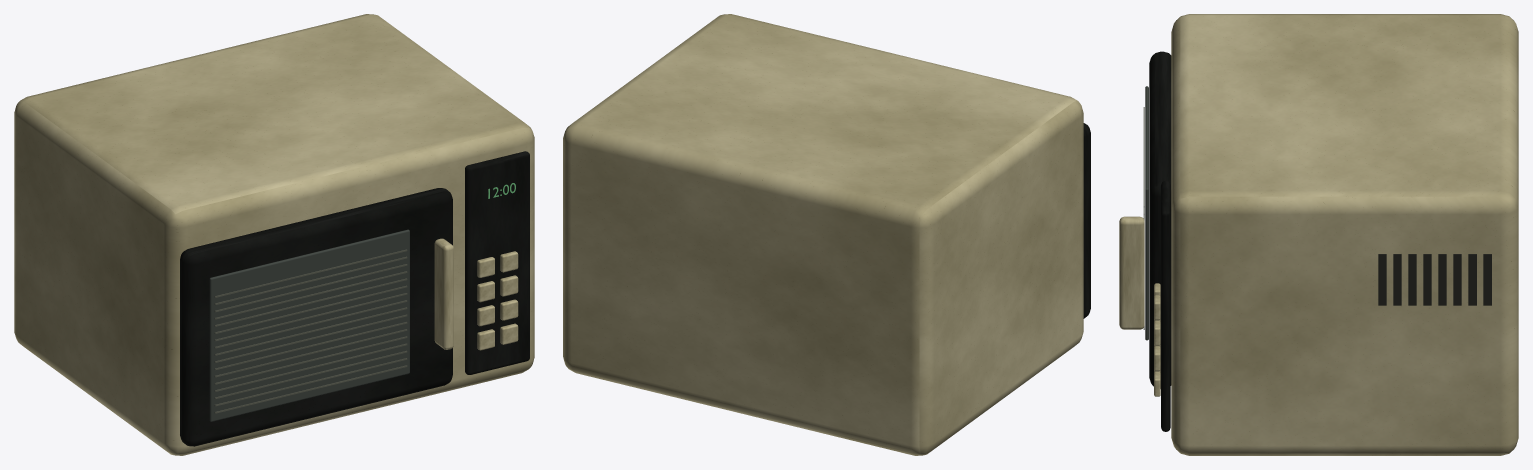
Rendered from microwave.glb.
The picture shows the model from 3 angles, left to right: view 1: azimuth 30°, elevation 25°; view 2: azimuth 150°, elevation 25°; view 3: azimuth 270°, elevation 25°; orthographic projection. The views are drawn at different scales.
Parts seen in each view (by area): view 1: Microwave cabinet, Door perforated viewing glass, Door surround, Control panel, Door handle; view 2: Microwave cabinet, Door surround; view 3: Microwave cabinet, Door surround, Door handle, Control panel, Door perforated viewing glass, Microwave side vent, Microwave side vent.001, Microwave side vent.002, Microwave side vent.003, Microwave side vent.004, Microwave side vent.005, Microwave side vent.006 (+1 smaller).
Boxes of the visible parts, left/top/right/bottom form: Microwave cabinet: left=14, top=14, right=534, bottom=455; Door perforated viewing glass: left=209, top=229, right=409, bottom=421; Door surround: left=180, top=188, right=452, bottom=446; Control panel: left=465, top=151, right=529, bottom=374; Door handle: left=434, top=238, right=453, bottom=349; Microwave cabinet: left=563, top=14, right=1083, bottom=455; Door surround: left=1083, top=123, right=1090, bottom=318; Microwave cabinet: left=1171, top=14, right=1518, bottom=455; Door surround: left=1149, top=51, right=1171, bottom=388; Door handle: left=1119, top=216, right=1144, bottom=329; Control panel: left=1161, top=180, right=1170, bottom=431; Door perforated viewing glass: left=1145, top=86, right=1148, bottom=340; Microwave side vent: left=1378, top=254, right=1386, bottom=305; Microwave side vent.001: left=1393, top=254, right=1401, bottom=305; Microwave side vent.002: left=1408, top=254, right=1416, bottom=305; Microwave side vent.003: left=1423, top=254, right=1431, bottom=305; Microwave side vent.004: left=1438, top=254, right=1446, bottom=305; Microwave side vent.005: left=1453, top=254, right=1461, bottom=305; Microwave side vent.006: left=1468, top=254, right=1476, bottom=305.
Bounding box in the file's own units: 0.483 × 0.315 × 0.4255.
Materials: 6 (3 with a texture image).
